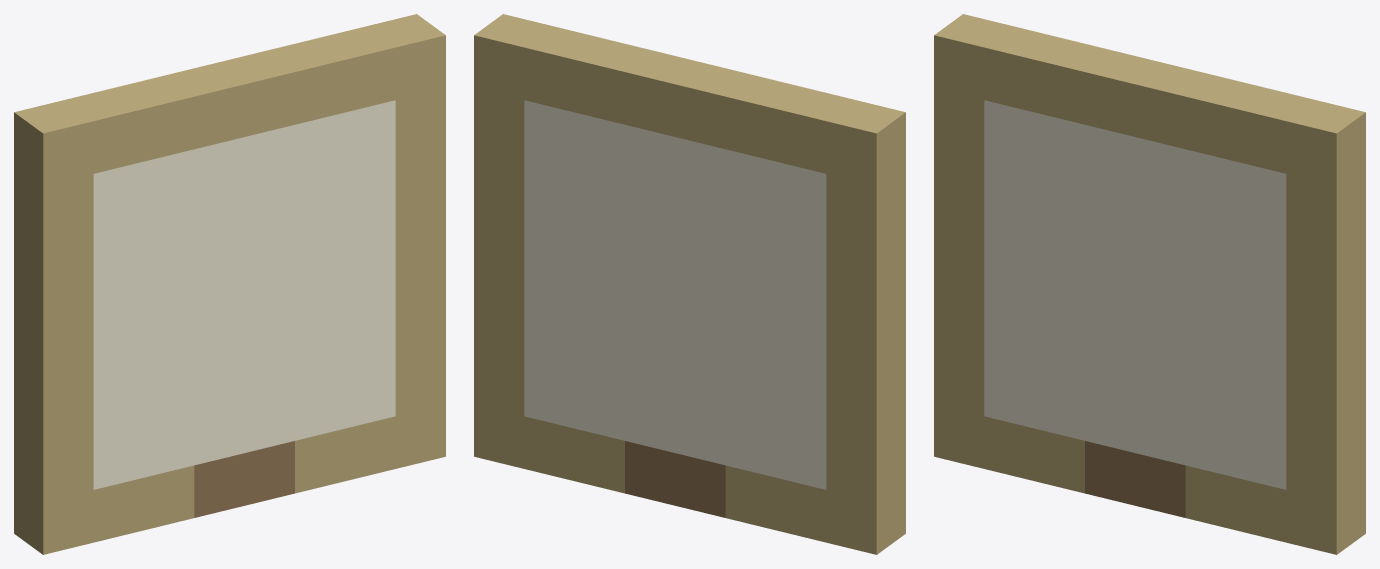
The model's file is Aspen Trapdoor.glb.
The picture shows the model from 3 angles, left to right: view 1: azimuth 30°, elevation 25°; view 2: azimuth 150°, elevation 25°; view 3: azimuth 330°, elevation 25°; orthographic projection.
Parts seen in each view (by area): view 1: generated(Clone); view 2: generated(Clone); view 3: generated(Clone).
Boxes of the visible parts, left/top/right/bottom form: generated(Clone): left=14, top=14, right=445, bottom=554; generated(Clone): left=474, top=14, right=905, bottom=554; generated(Clone): left=934, top=14, right=1365, bottom=554.
Size of the model in its own units: 8 by 8 by 1.
1 material, 1 textured.
